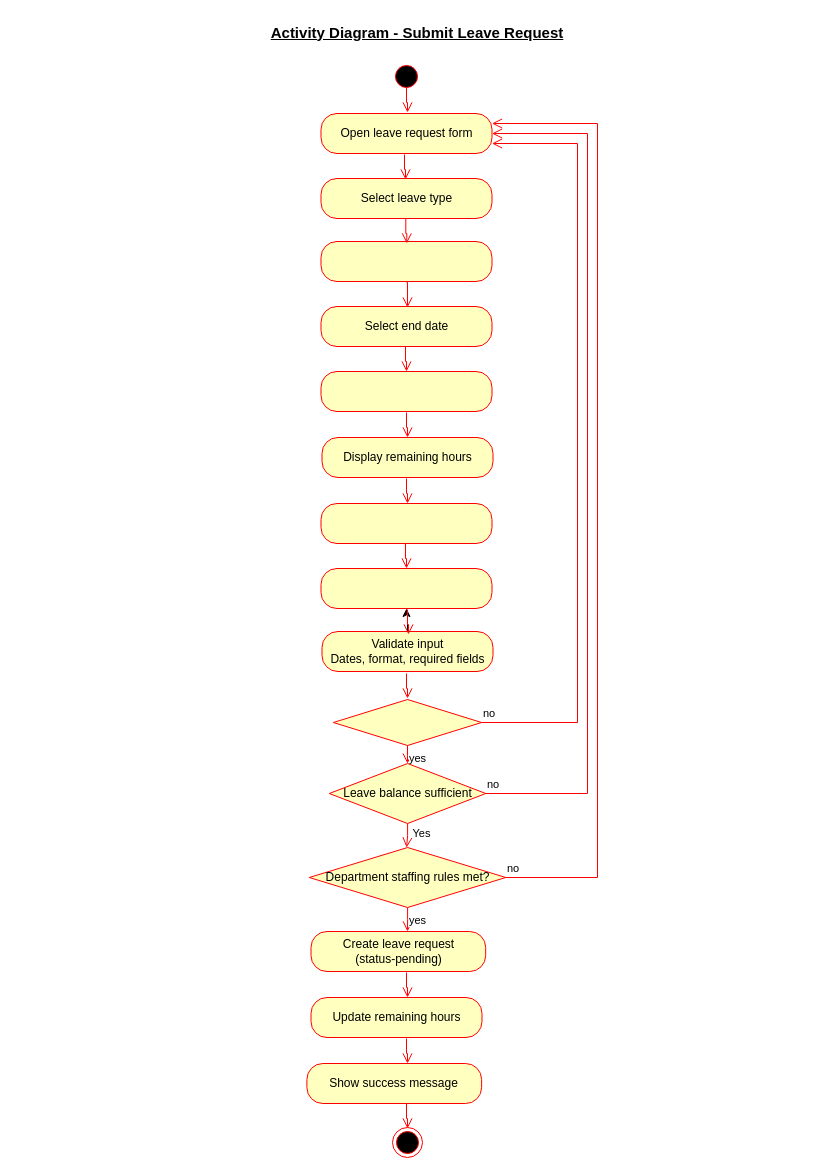
This 834x1175 diagram has some shape labels left out. The centre of each missing label's shape, as x and y in pixels:
Calculate total hours: [406,391]
Click submit: [406,588]
Enter reason (optional): [406,523]
Is data valid: [407,722]
Select start date: [406,261]
